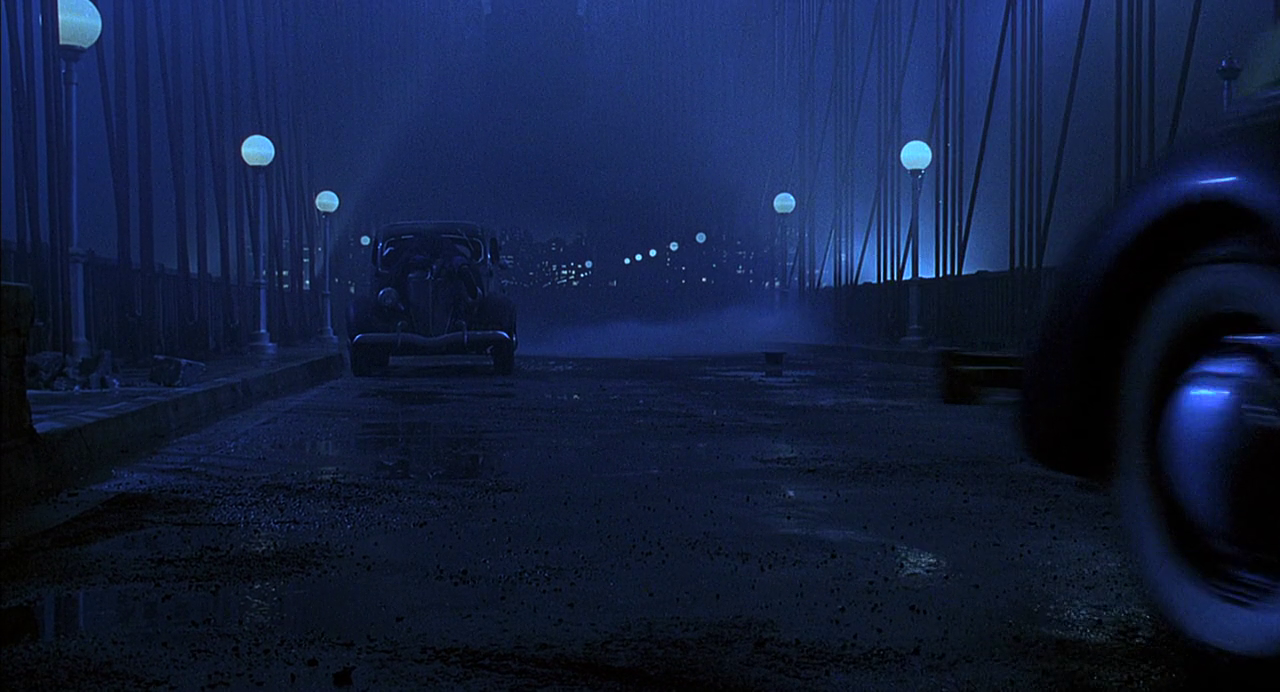car: (342, 215, 527, 385)
